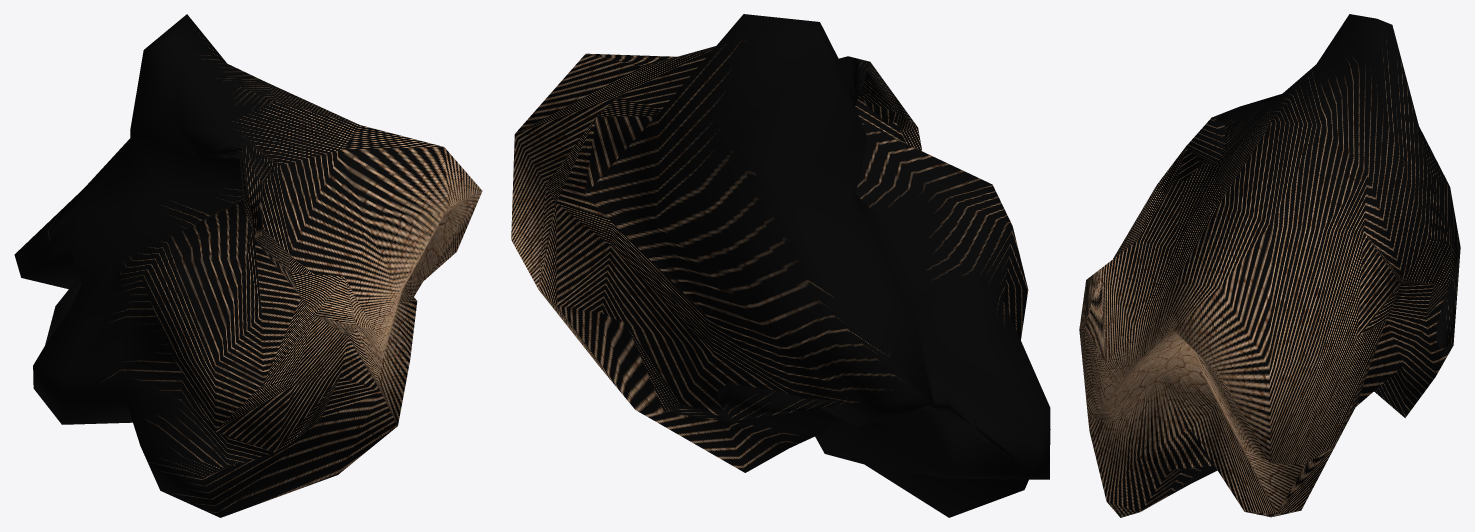
The model's file is Asteroid.FBX.
The picture shows the model from 3 angles, left to right: view 1: azimuth 30°, elevation 25°; view 2: azimuth 150°, elevation 25°; view 3: azimuth 270°, elevation 25°; orthographic projection. The views are drawn at different scales.
Parts seen in each view (by area): view 1: Asteroid; view 2: Asteroid; view 3: Asteroid.
Boxes of the visible parts, <box> form: Asteroid: <box>14,14,482,517</box>; Asteroid: <box>511,14,1050,517</box>; Asteroid: <box>1079,14,1460,517</box>.
Bounding box in the file's own units: 11.98 × 11.59 × 8.
